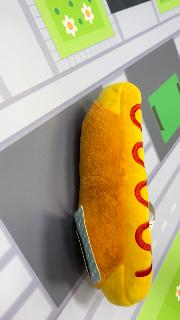hotdog: (74, 81, 154, 307)
